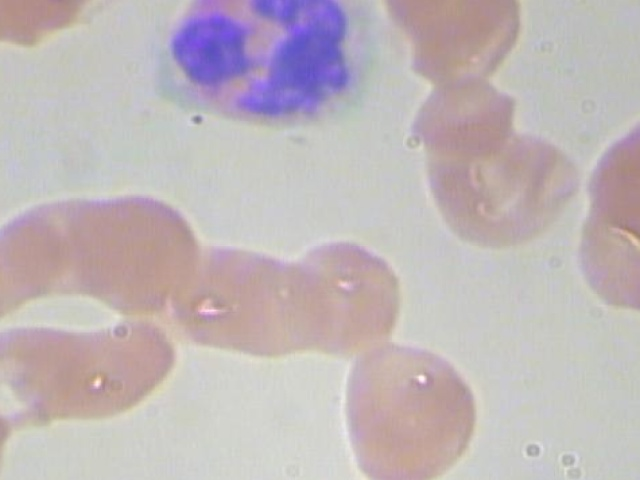RBC: (412, 111, 588, 256), (325, 337, 498, 480), (267, 234, 410, 371), (219, 235, 339, 362), (0, 215, 67, 323)
WBC: (155, 0, 389, 123)
